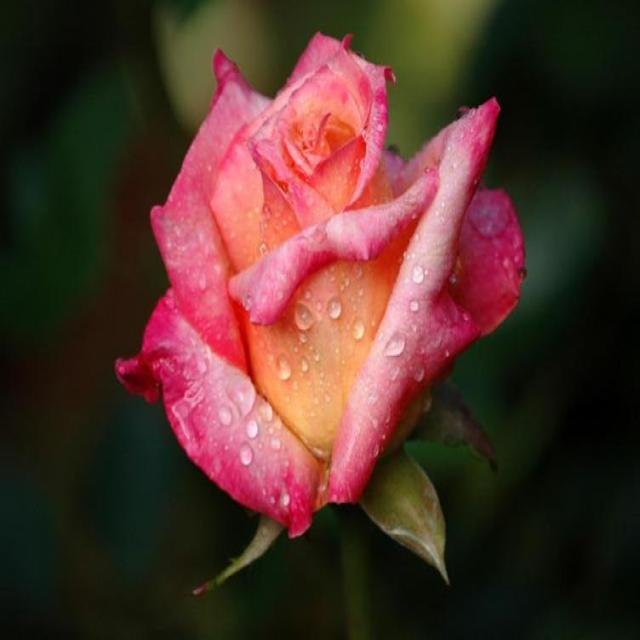rose: (106, 13, 531, 589)
